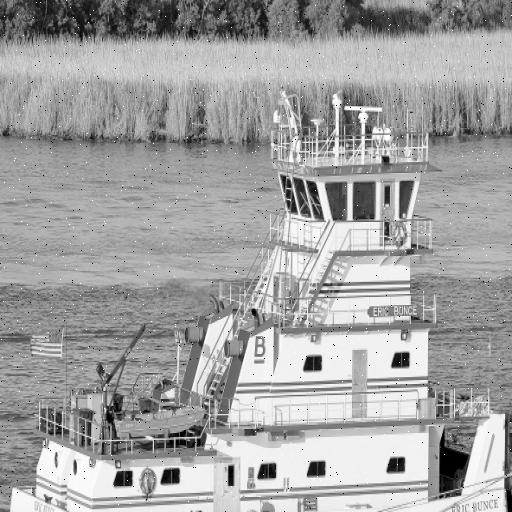tugboat: (2, 81, 512, 512)
